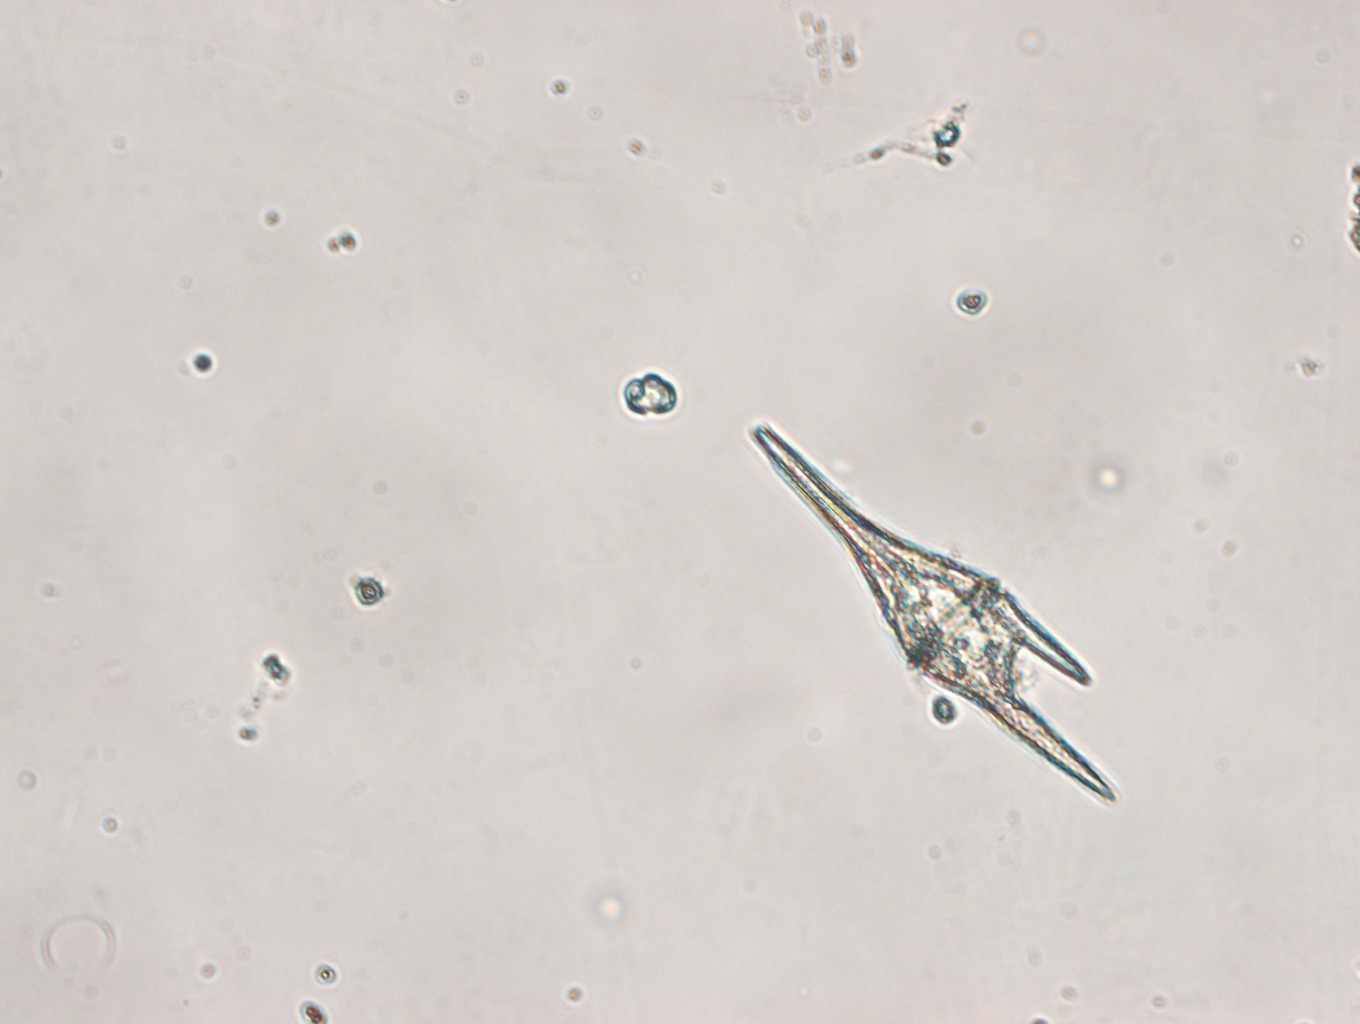ceratium furca: (743, 413, 1123, 805)
